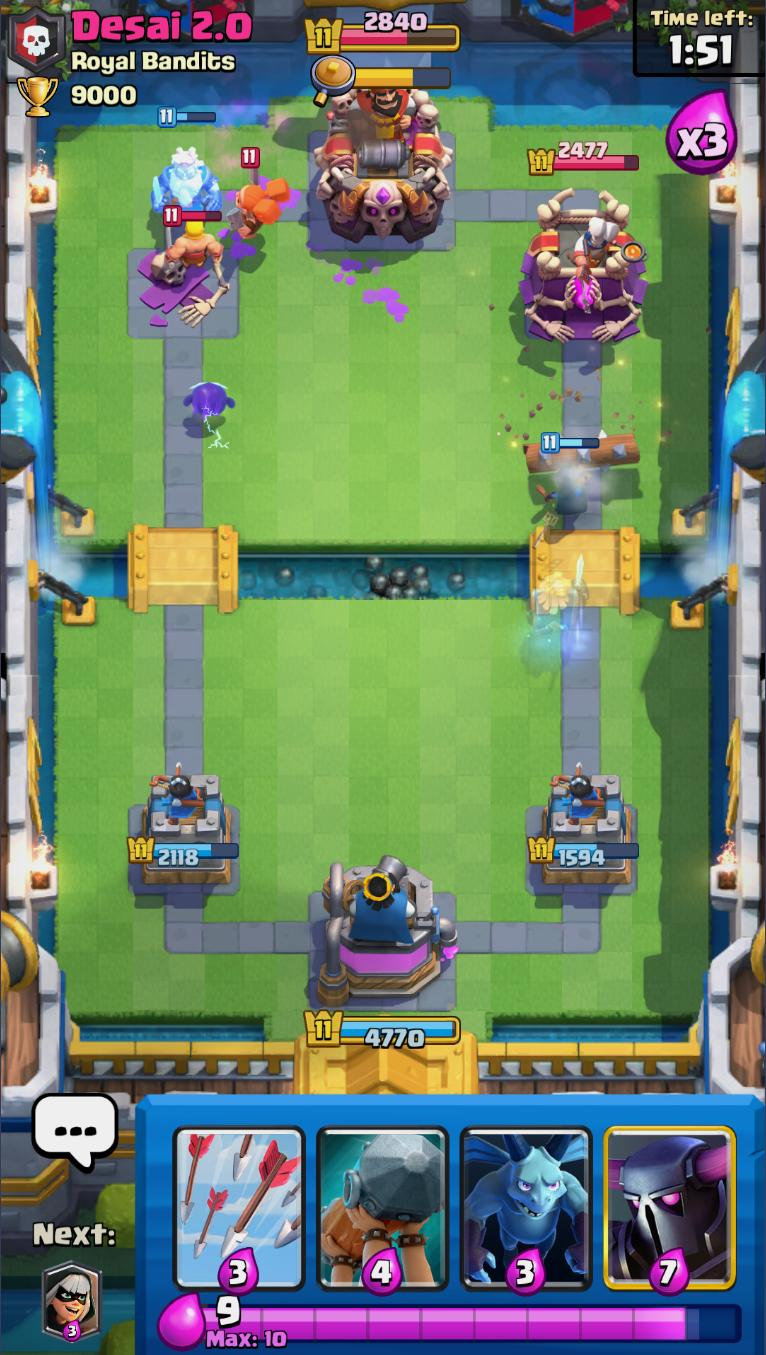ArrowDeck: (165, 1095, 314, 1296)
BanditNext: (38, 1260, 105, 1341)
Barbarian: (159, 205, 221, 271)
BattleRamDeck: (310, 1095, 455, 1299)
Berserker: (231, 148, 294, 241)
Chef: (552, 199, 618, 273)
Elixir: (203, 1293, 748, 1351)
EnemyTower: (516, 186, 651, 346)
EnemyTowerBrocken: (128, 244, 242, 344)
KingTower: (310, 85, 456, 241)
KingTowerHP: (302, 10, 463, 56)
Log: (523, 429, 644, 474)
MinionsDeck: (450, 1096, 604, 1298)
MyBandit: (540, 433, 599, 519)
MyElectroSpirit: (183, 376, 236, 426)
MyKingHP: (301, 1006, 463, 1053)
MyKingTower: (315, 856, 460, 1008)
MyPrincessTower: (126, 766, 238, 891), (539, 771, 638, 889)
MyPrincessTowerHP: (525, 832, 642, 870), (126, 835, 243, 868)
MyRoyaleGhost: (149, 107, 224, 210), (525, 551, 594, 650)
PekkaDeck: (599, 1098, 744, 1296)
TowerPrincessHP: (528, 141, 641, 178)
